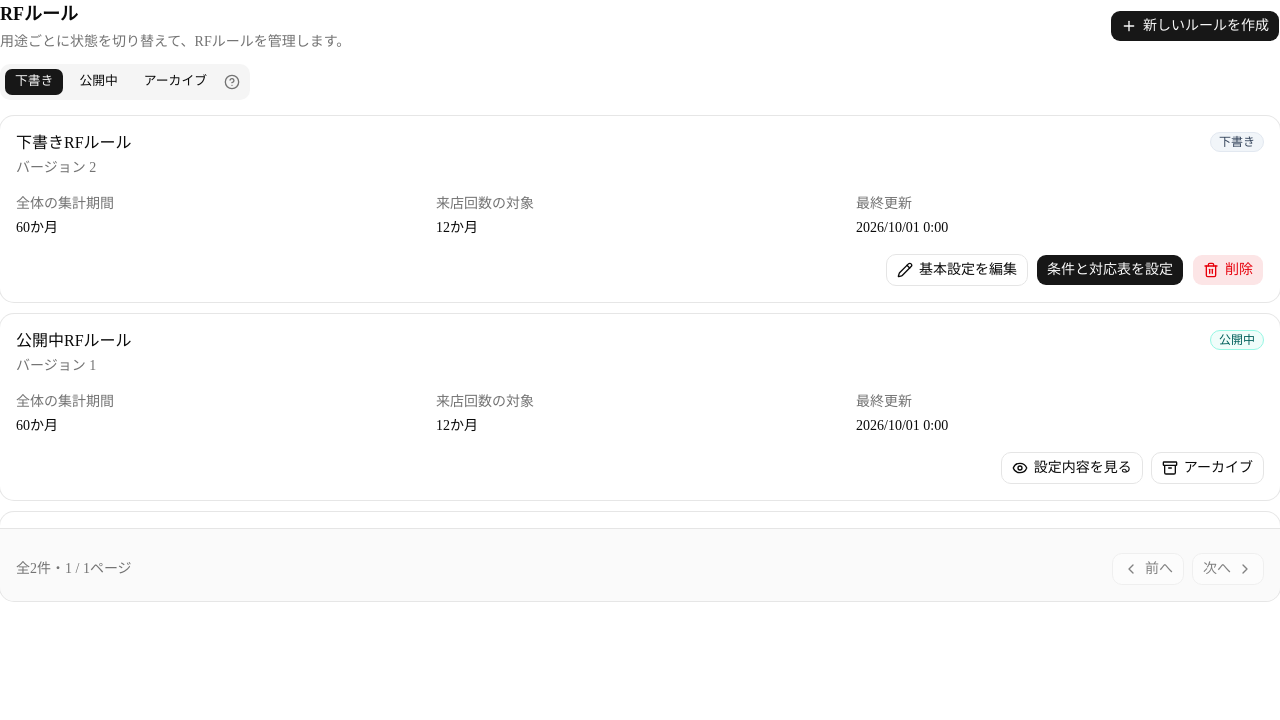
Test case: RfRuleSetsSection › ownerが公開中ルールをアーカイブできる
Click the button "アーカイブ" at (1207, 468), box x1=1151 y1=452 x2=1264 y2=484
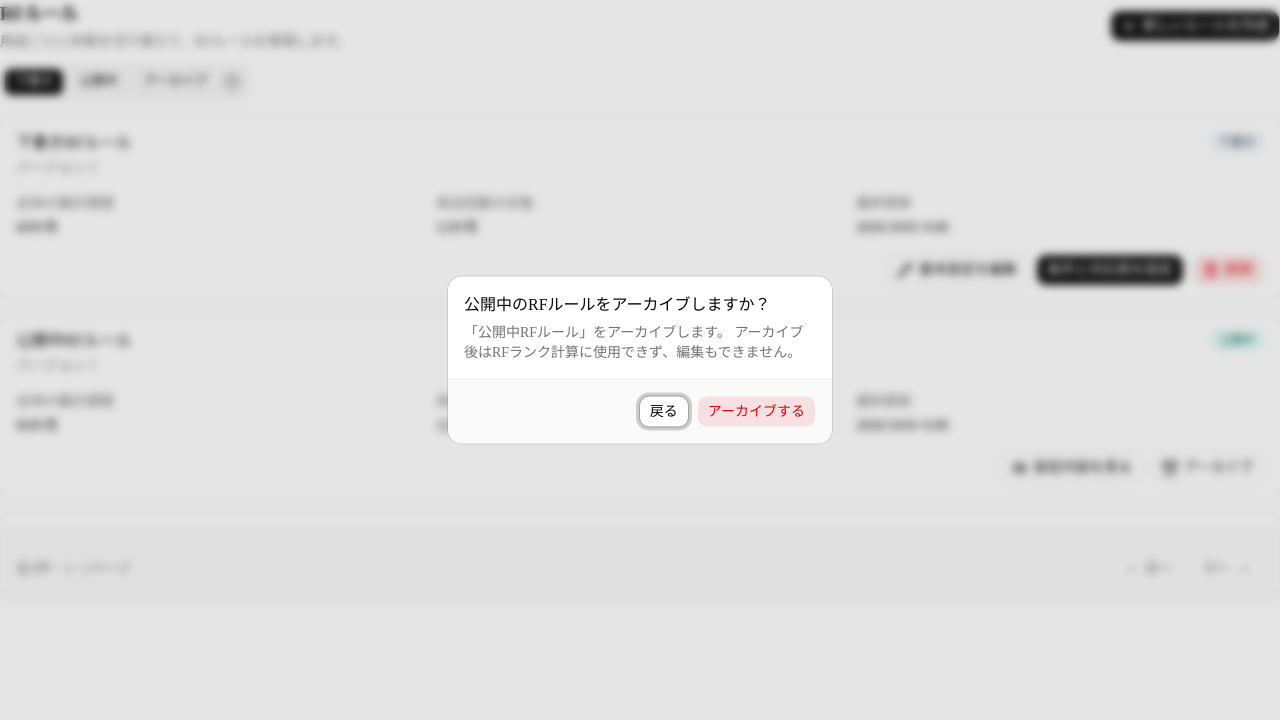
Check: the dialog "公開中のRFルールをアーカイブしますか？" shows "公開中RFルール", box x1=478 y1=324 x2=579 y2=340
Click the button "アーカイブする" at (756, 412), box x1=697 y1=396 x2=816 y2=428
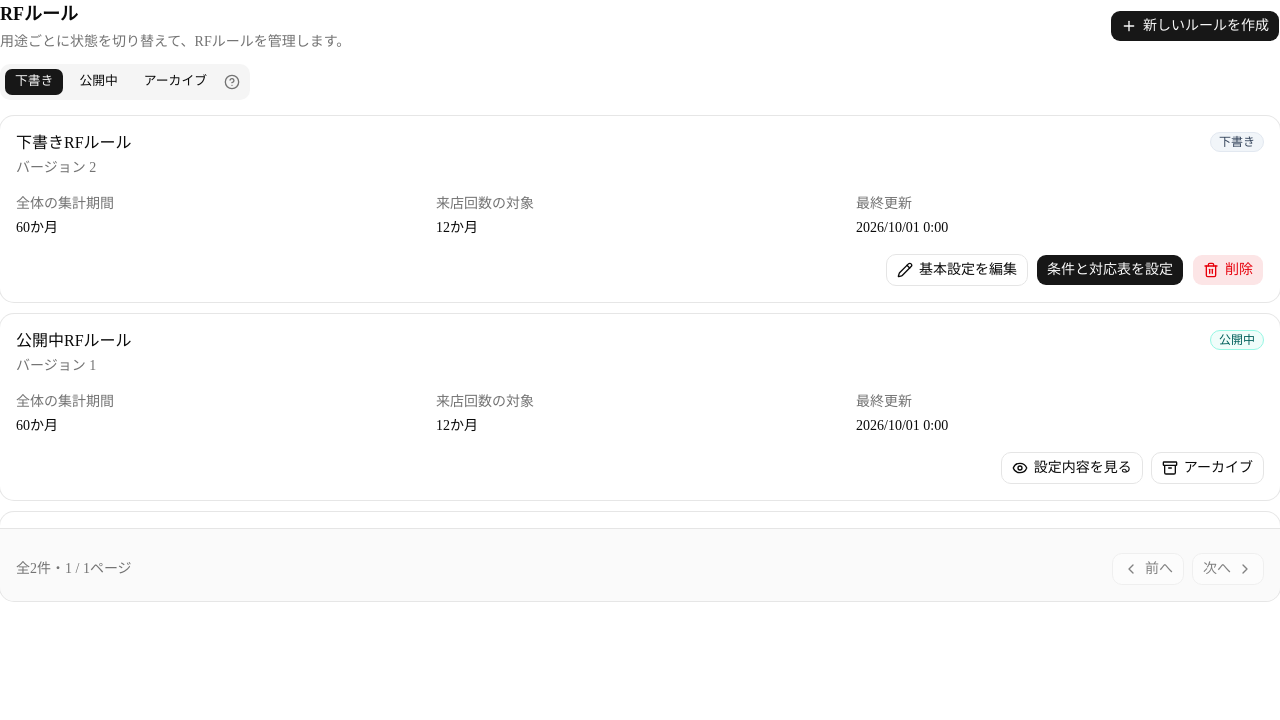
Check: the dialog is gone
